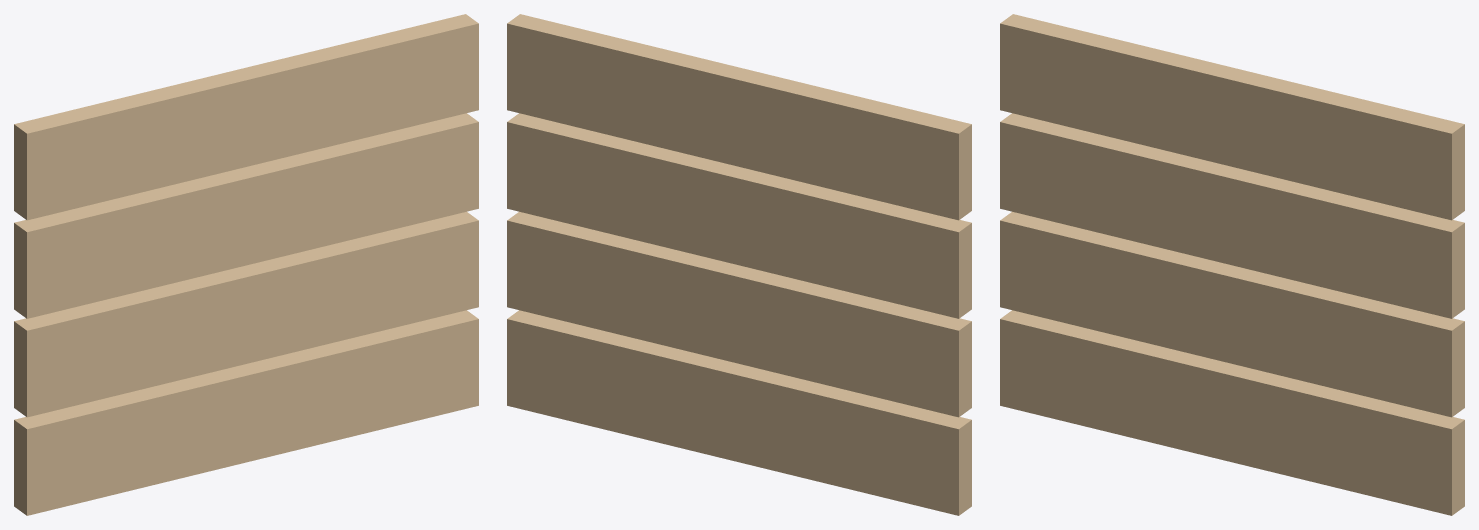
File: flooring-wood-lvp.glb
3 views of the same model, side by side, from view 1: azimuth 30°, elevation 25°; view 2: azimuth 150°, elevation 25°; view 3: azimuth 330°, elevation 25° (orthographic).
Visible parts, largest first — view 1: world; view 2: world; view 3: world.
Boxes of the visible parts, box(x1,y1,x2,y2) form: world: box(14, 14, 478, 515); world: box(507, 14, 971, 515); world: box(1000, 14, 1464, 515).
Bounding box in the file's own units: 1.2 × 0.97 × 0.06.
